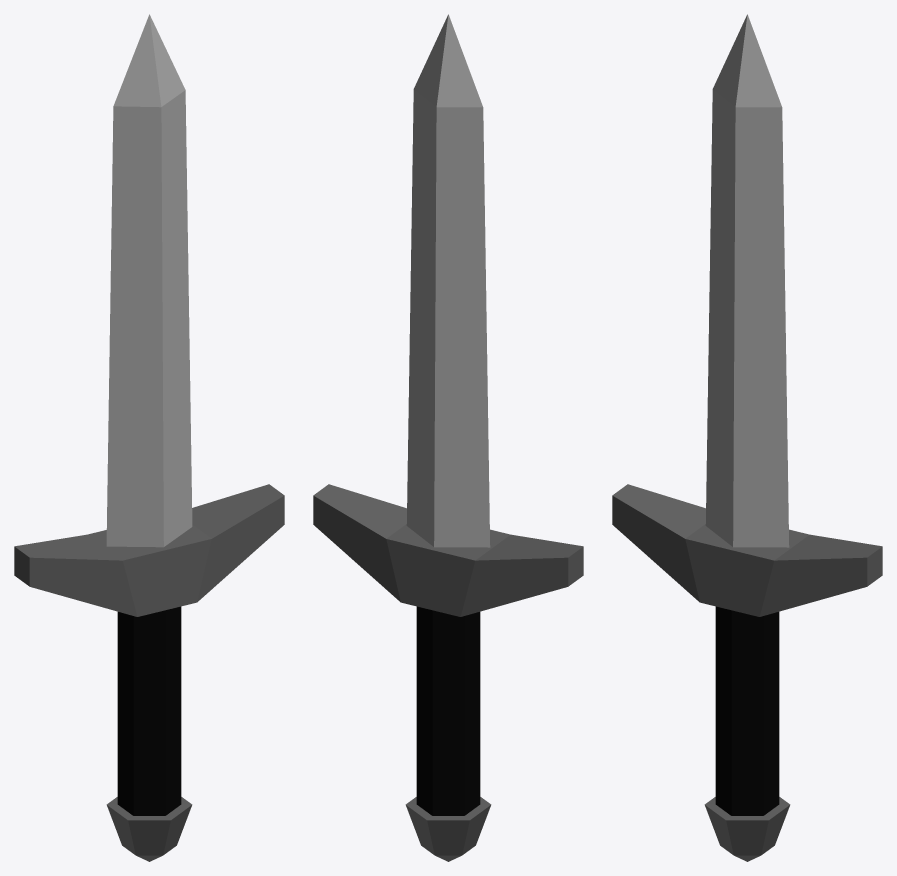
The model's file is Short sword.fbx.
3 views of the same model, side by side, from view 1: azimuth 30°, elevation 25°; view 2: azimuth 150°, elevation 25°; view 3: azimuth 330°, elevation 25° (orthographic).
Visible parts, largest first — view 1: Shortsword; view 2: Shortsword; view 3: Shortsword.
Part boxes in pixels (x1,y1,x2,y2): Shortsword: (14, 14, 284, 861); Shortsword: (313, 14, 583, 861); Shortsword: (612, 14, 882, 861).
Bounding box in the file's own units: 40.64 × 129 × 11.85.
